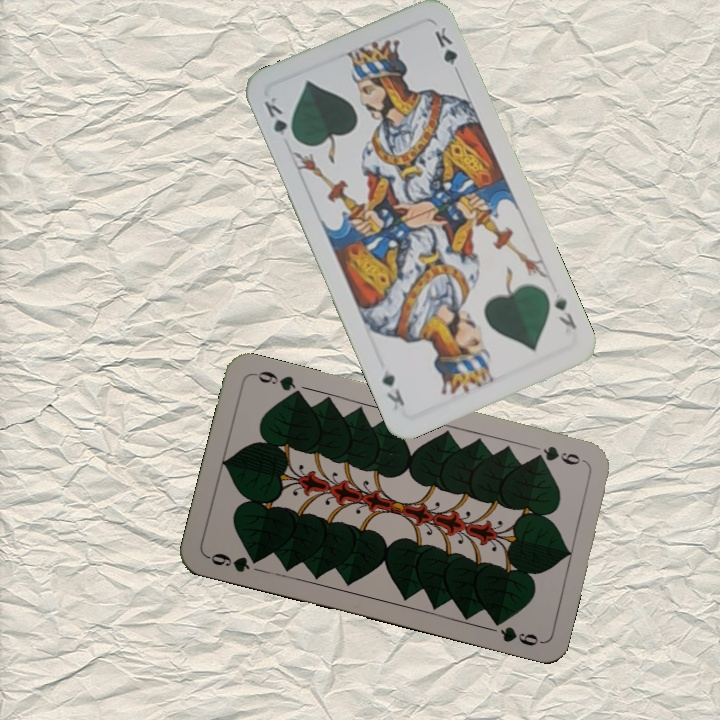G9: (203, 549, 264, 575), (530, 442, 588, 468)
GK: (259, 93, 299, 145), (550, 294, 580, 332)
